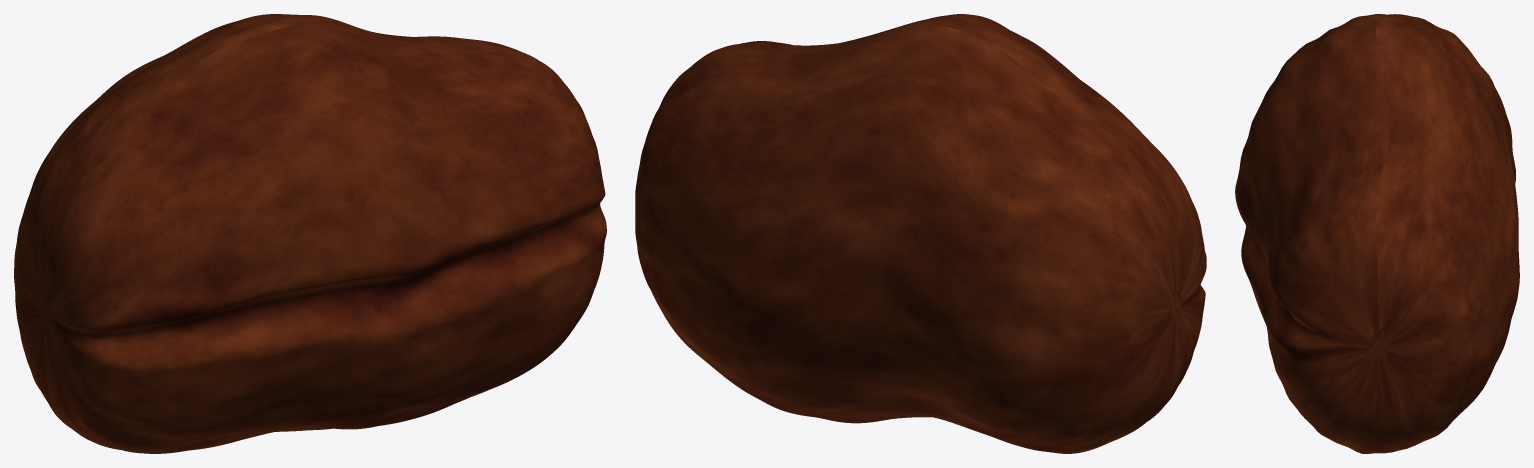
The model's file is catuai.glb.
3 views of the same model, side by side, from view 1: azimuth 30°, elevation 25°; view 2: azimuth 150°, elevation 25°; view 3: azimuth 270°, elevation 25° (orthographic). The views are drawn at different scales.
Parts seen in each view (by area): view 1: Cafe_catuai; view 2: Cafe_catuai; view 3: Cafe_catuai.
Part boxes in pixels (x1=…): Cafe_catuai: x1=14, y1=14, x2=606, y2=453; Cafe_catuai: x1=635, y1=14, x2=1206, y2=453; Cafe_catuai: x1=1235, y1=14, x2=1519, y2=453.
Size of the model in its own units: 0.0109 by 0.0082 by 0.00603.
1 material, 1 textured.
